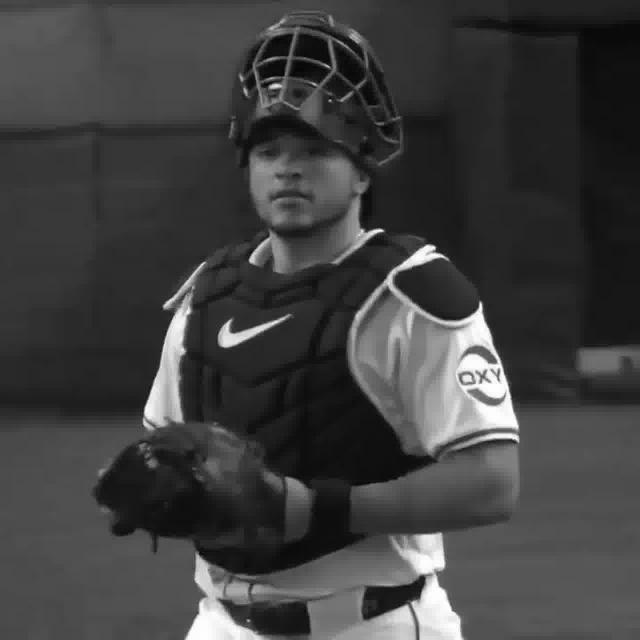baseball_glove: (100, 424, 287, 554)
